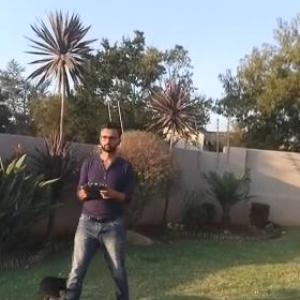follow: (62, 112, 138, 299)
null: (35, 270, 80, 299)
